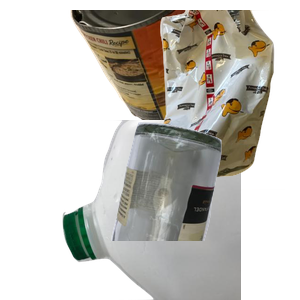glass: (109, 120, 300, 300)
metal: (68, 10, 265, 131)
plastic: (60, 120, 300, 300)
trash: (127, 10, 300, 190)
